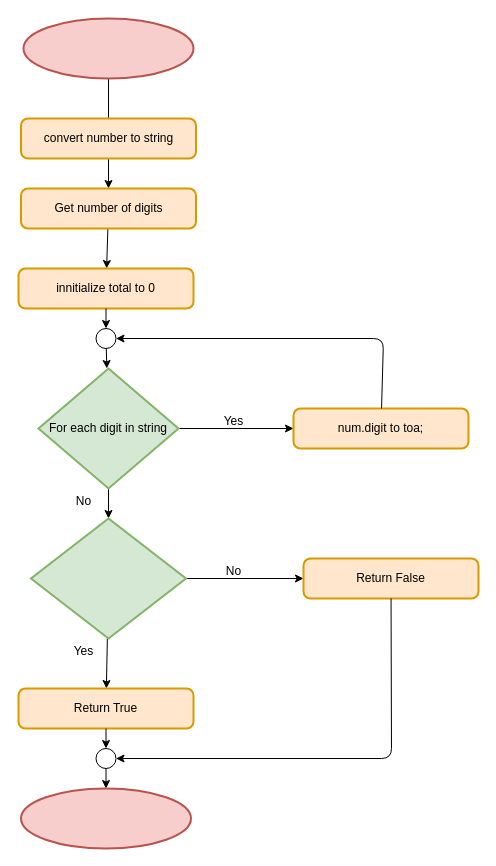
Image size: 496x866. Some labels were removed from this diagram. Each missing label, with the centre of its shape:
Is total equal to number?: point 108,578
is.armstrong(number): point 108,48
Stop: point 106,818
